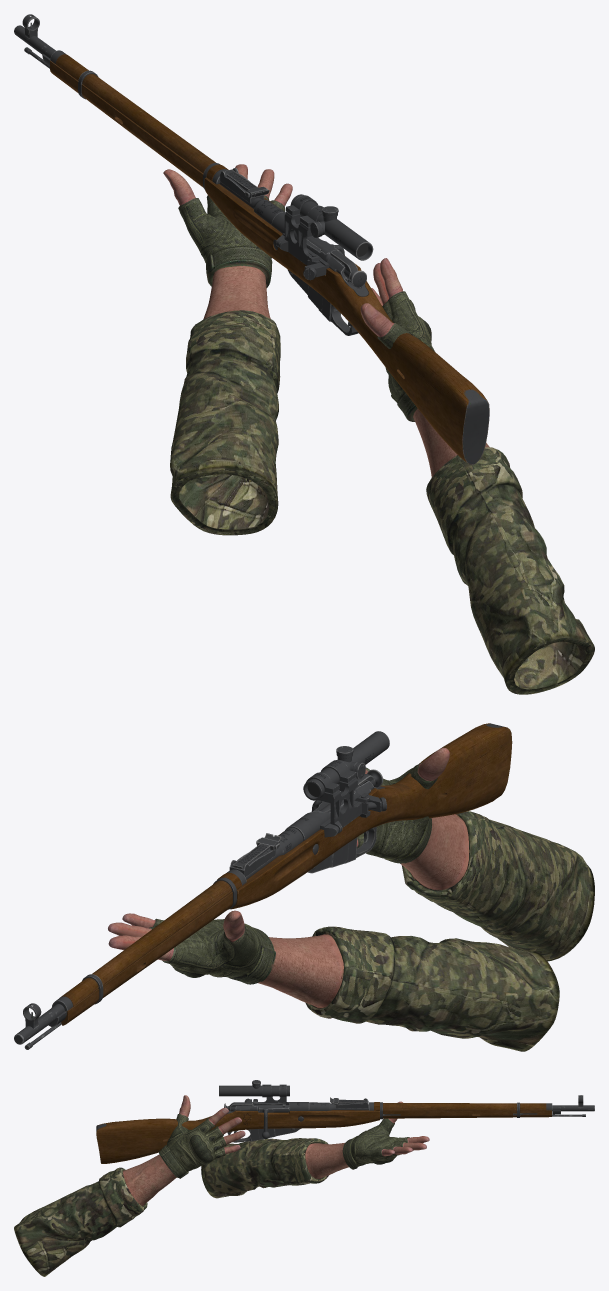
Rendered from vm_mosin.glb.
3 renders of one model, top to bottom at view 1: azimuth 30°, elevation 25°; view 2: azimuth 150°, elevation 25°; view 3: azimuth 270°, elevation 25°, orthographic. The views are drawn at different scales.
Parts seen in each view (by area): view 1: armB, armA, mosin; view 2: armB, mosin, armA; view 3: armA, mosin, armB.
Part boxes in pixels (x1,y1,x2,y2): armB: [163, 164, 292, 535]; armA: [360, 258, 594, 694]; mosin: [14, 14, 489, 464]; armB: [108, 910, 559, 1051]; mosin: [14, 723, 512, 1049]; armA: [356, 747, 594, 961]; armA: [14, 1095, 245, 1276]; mosin: [96, 1080, 594, 1163]; armB: [201, 1101, 429, 1198].
Bounding box in the file's own units: 0.3523 × 0.4357 × 1.22.
Materials: 3 (3 with a texture image).
